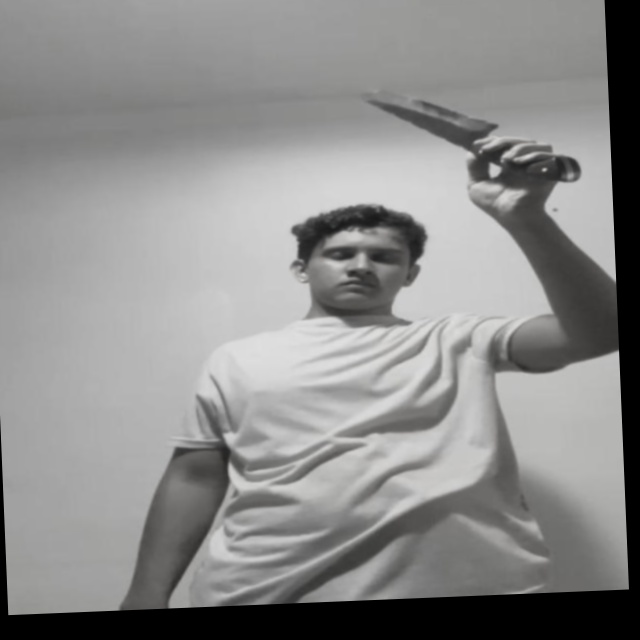Sharp-Object: (352, 86, 497, 142)
